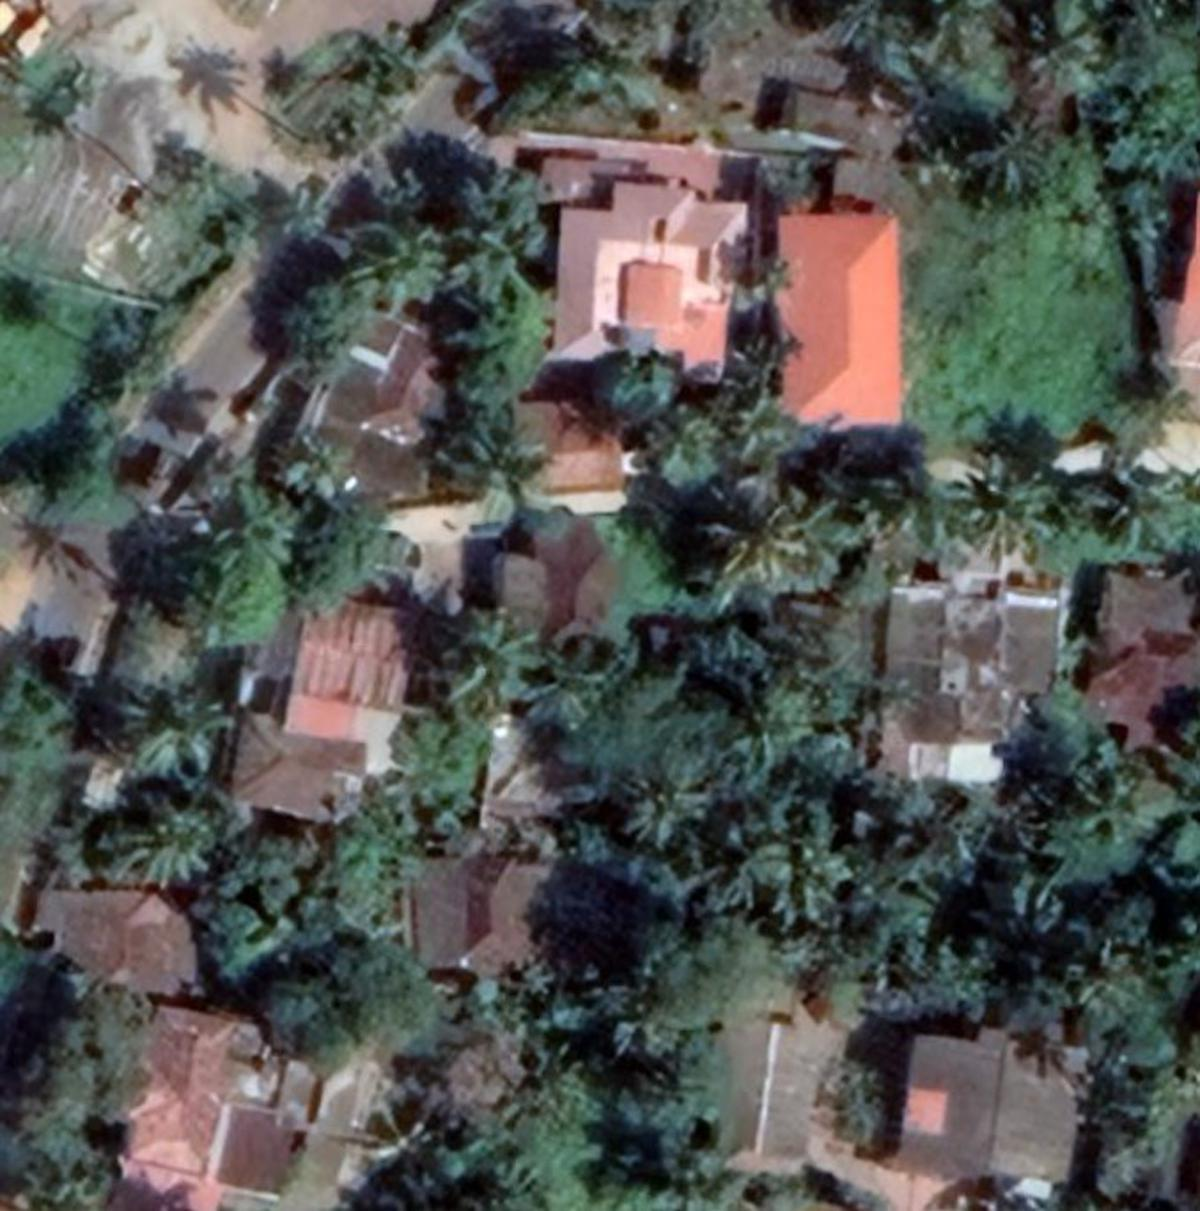coconut: (441, 407, 577, 540), (948, 459, 1074, 599), (86, 797, 232, 904), (682, 487, 820, 590), (971, 104, 1086, 218), (111, 670, 253, 762), (343, 209, 475, 290), (451, 605, 568, 696), (616, 773, 716, 863)
